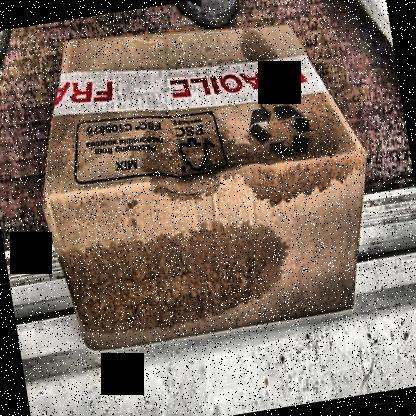defect parcel: (131, 17, 386, 225), (58, 203, 309, 344)
